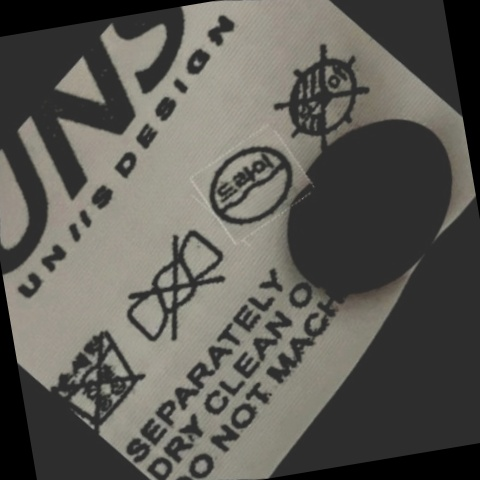DN_dry: (262, 37, 382, 158)
DN_wring: (109, 222, 243, 357)
dry_clean: (198, 130, 307, 241)
hand_wash: (43, 313, 158, 435)
